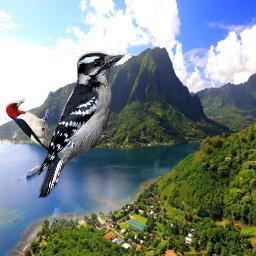Woodpecker: (37, 50, 125, 199), (5, 99, 49, 152)
